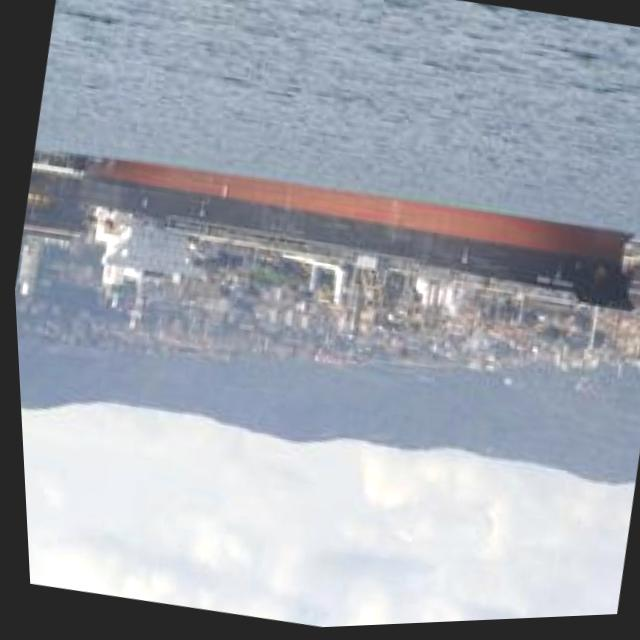ship2: (80, 159, 630, 336)
